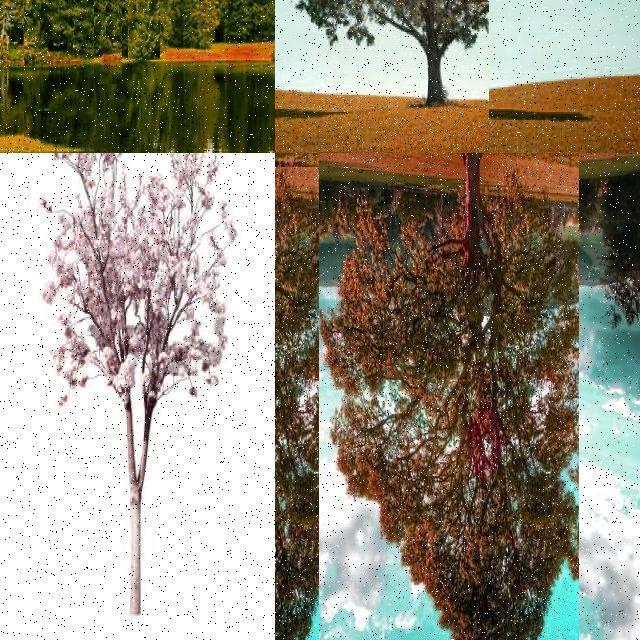tree: (319, 152, 579, 640), (43, 153, 231, 602), (0, 154, 140, 586), (275, 167, 391, 640), (275, 0, 489, 152), (27, 0, 81, 152), (592, 212, 640, 332), (1, 0, 32, 150), (171, 0, 219, 76), (0, 0, 24, 148), (0, 0, 24, 122), (276, 227, 308, 309), (241, 0, 275, 76), (94, 0, 122, 84), (124, 0, 158, 68), (128, 0, 160, 60), (74, 0, 94, 40), (106, 0, 122, 36)
